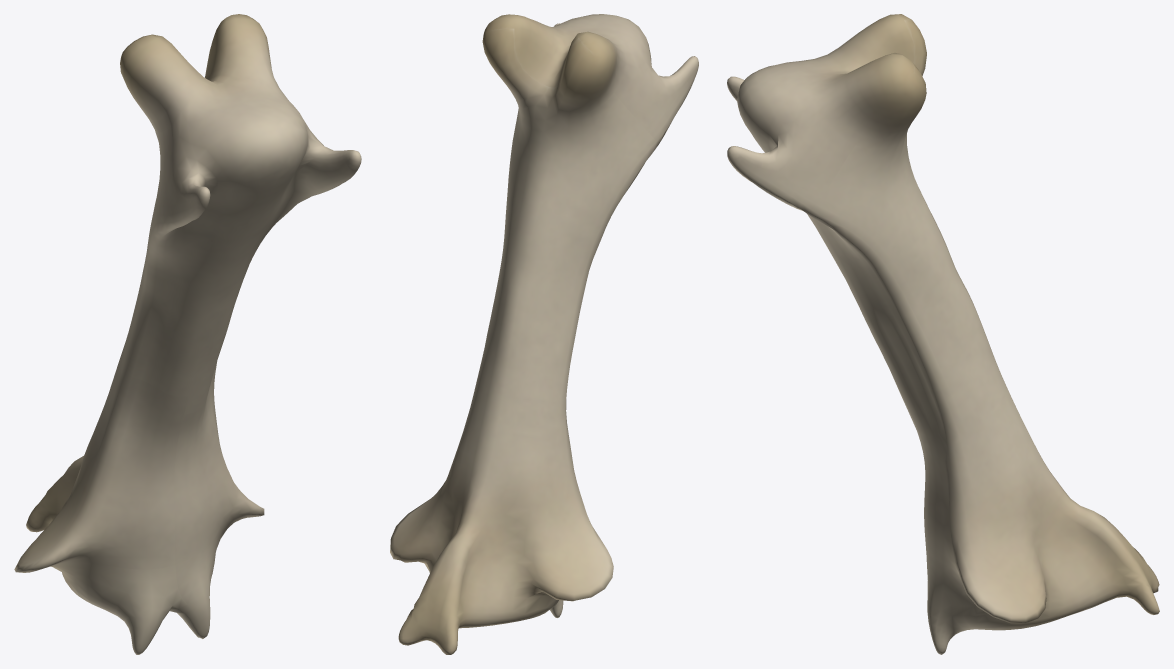
Rendered from vertebrae caudales 07.fbx.
3 views of the same model, side by side, from view 1: azimuth 30°, elevation 25°; view 2: azimuth 150°, elevation 25°; view 3: azimuth 270°, elevation 25° (orthographic). The views are drawn at different scales.
Visible parts, largest first — view 1: vertebrae caudales 07; view 2: vertebrae caudales 07; view 3: vertebrae caudales 07.
Part boxes in pixels (box(x1,y1,x2,y2)): vertebrae caudales 07: box(14, 14, 361, 654); vertebrae caudales 07: box(390, 14, 698, 654); vertebrae caudales 07: box(727, 14, 1159, 654).
Size of the model in its own units: 2.53 by 6.42 by 4.17.
